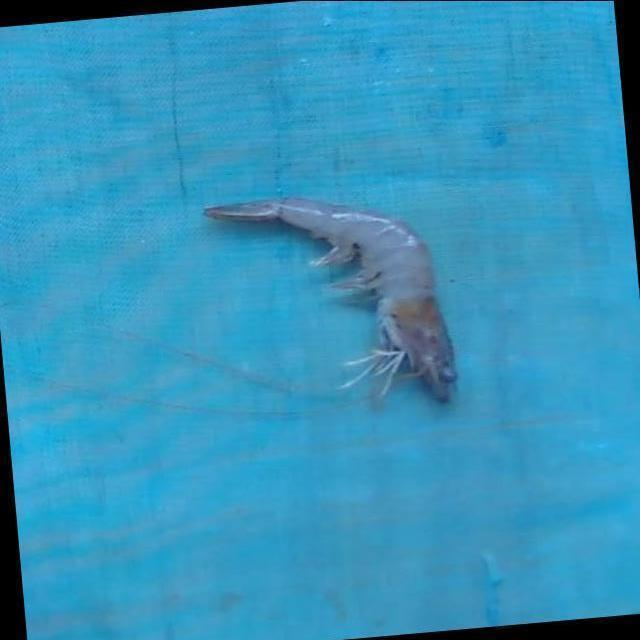shrimp: (204, 196, 454, 401)
